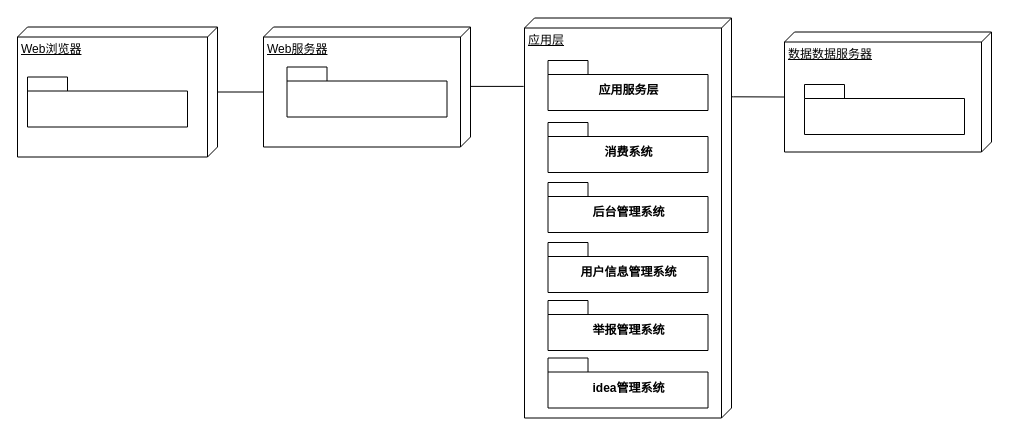
Some shapes in this 1009 by 435 pixel diagram are drawn without their labels. The centre of each missing label's shape, as x and y in pixels:
Web服务层: point 366,91
Web浏览器层——运行实例: point 107,101
数据持久化: point 884,109
